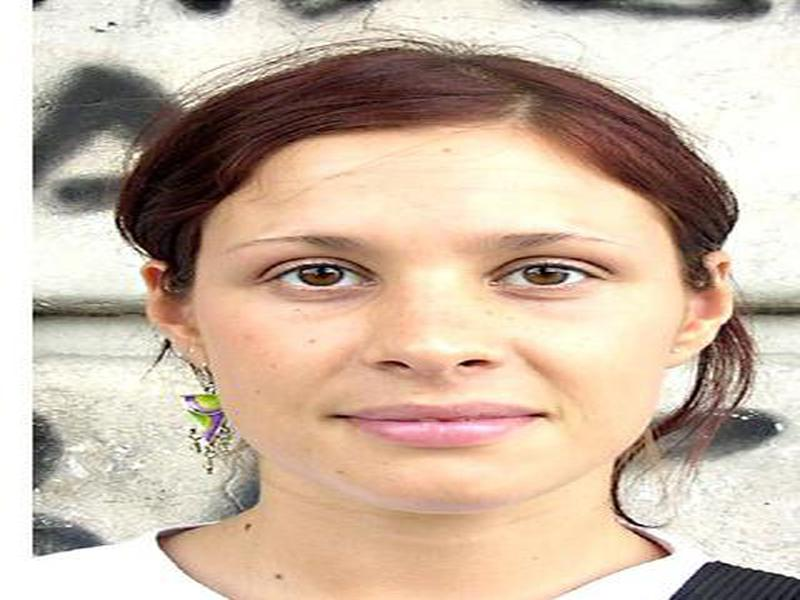without_mask: (206, 153, 668, 512)
